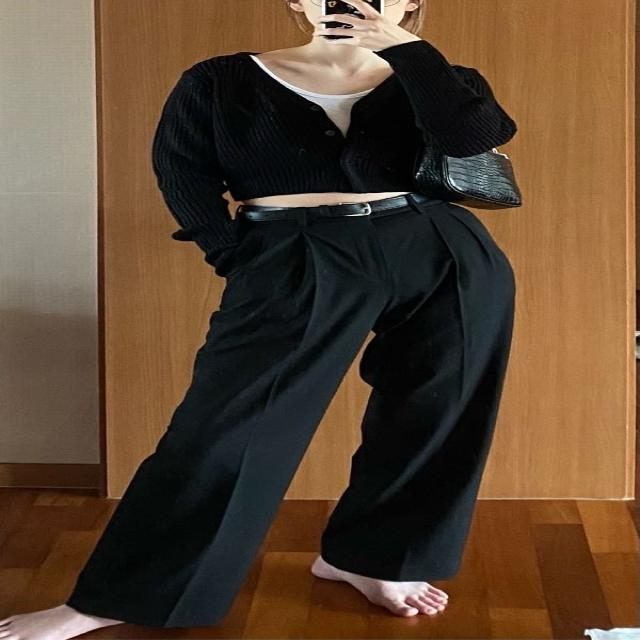cardigan: (147, 41, 518, 256)
slacks: (68, 188, 528, 636)
